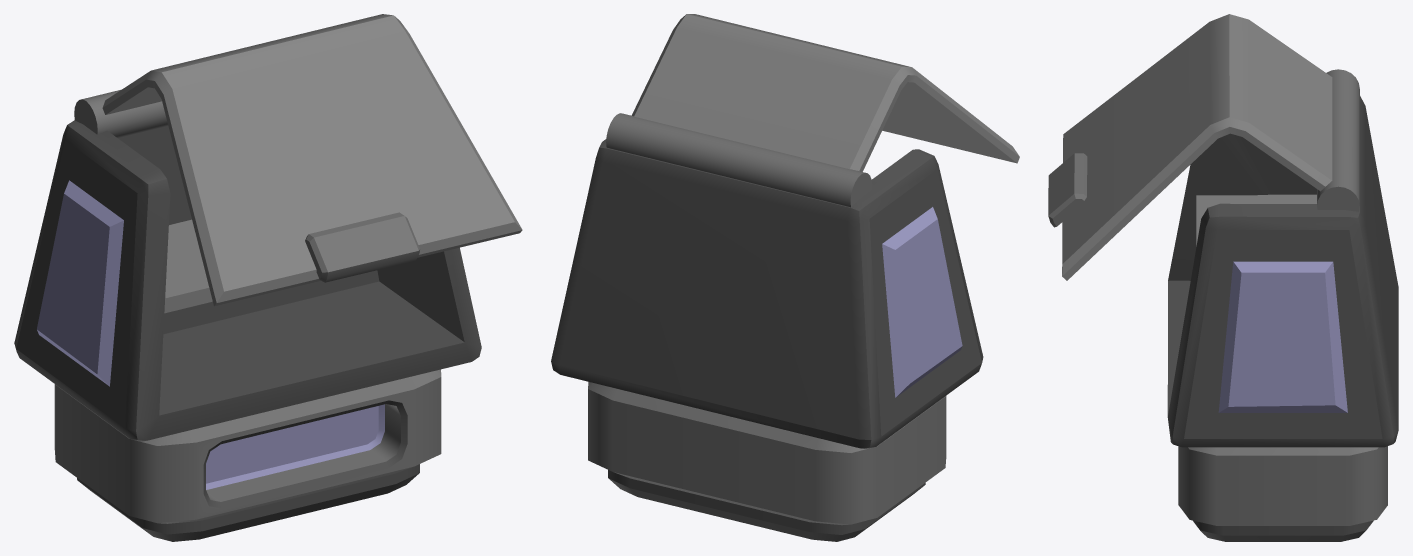
The model's file is Refrigerateur_Compact_Ouvert.fbx.
3 views of the same model, side by side, from view 1: azimuth 30°, elevation 25°; view 2: azimuth 150°, elevation 25°; view 3: azimuth 270°, elevation 25° (orthographic). The views are drawn at different scales.
Parts seen in each view (by area): view 1: Refrigerateur_Compact_Ouvert; view 2: Refrigerateur_Compact_Ouvert; view 3: Refrigerateur_Compact_Ouvert.
Boxes of the visible parts, <box> form: Refrigerateur_Compact_Ouvert: <box>14,14,522,541</box>; Refrigerateur_Compact_Ouvert: <box>551,14,1019,541</box>; Refrigerateur_Compact_Ouvert: <box>1048,14,1398,541</box>.
Bounding box in the file's own units: 69 × 83.18 × 62.86.
